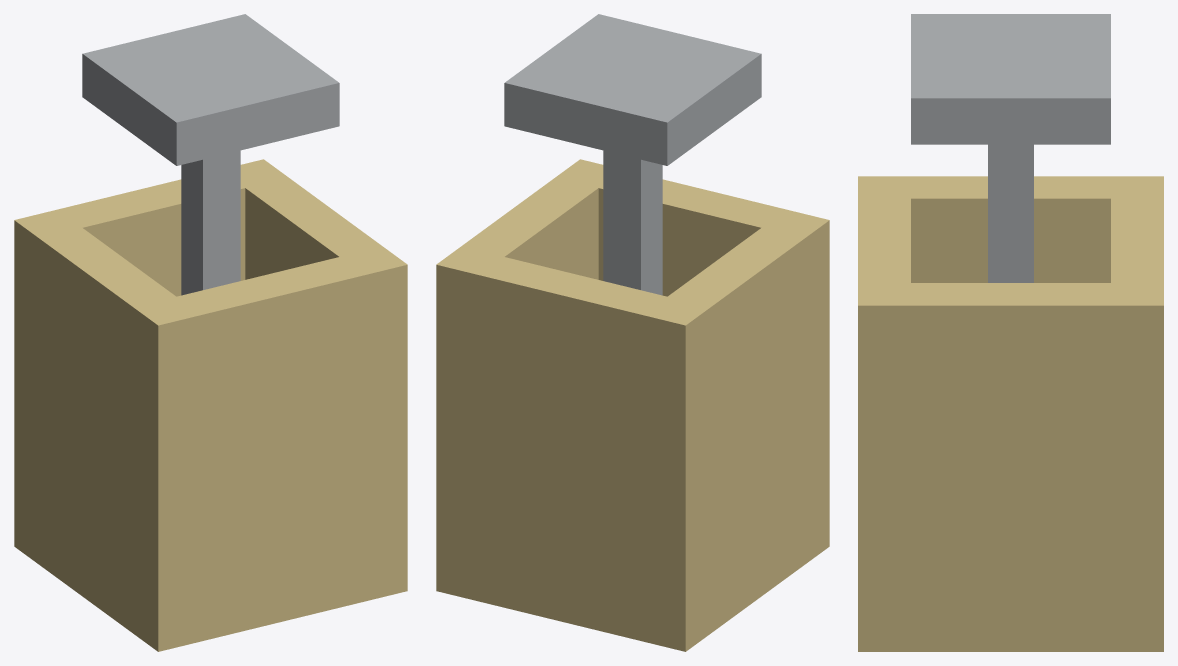
Rendered from ceiling_light_square.glb.
The picture shows the model from 3 angles, left to right: view 1: azimuth 30°, elevation 25°; view 2: azimuth 150°, elevation 25°; view 3: azimuth 270°, elevation 25°; orthographic projection. The views are drawn at different scales.
Visible parts, largest first — view 1: ceiling_light_square; view 2: ceiling_light_square; view 3: ceiling_light_square.
Part boxes in pixels (left/top/right/bottom): ceiling_light_square: left=14, top=14, right=407, bottom=651; ceiling_light_square: left=436, top=14, right=829, bottom=651; ceiling_light_square: left=858, top=14, right=1163, bottom=651.
Size of the model in its own units: 0.24 by 0.46 by 0.24.
